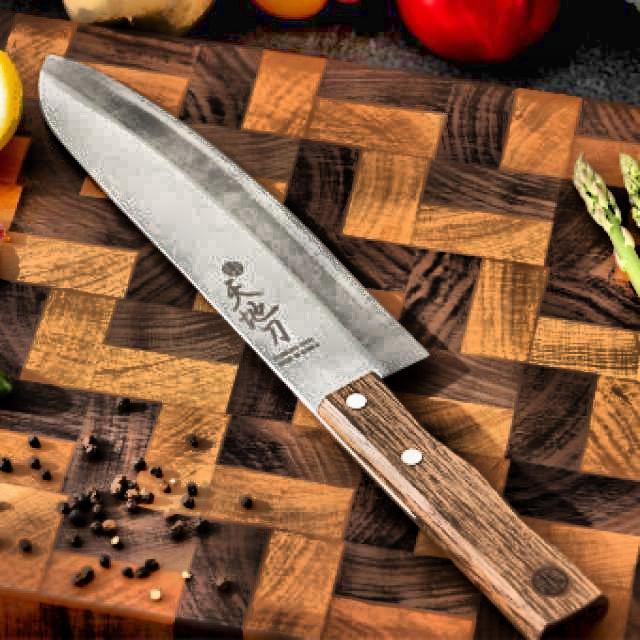knife: (36, 49, 608, 640)
